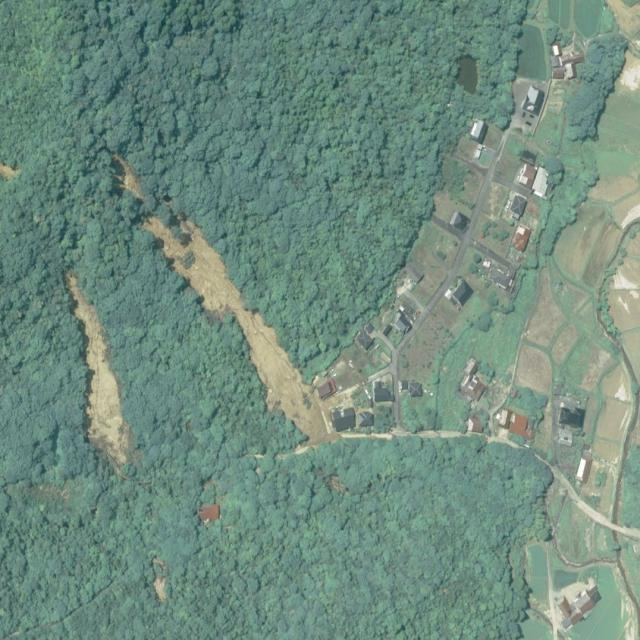landslide: (140, 214, 337, 453), (64, 271, 129, 477), (112, 153, 143, 200)
